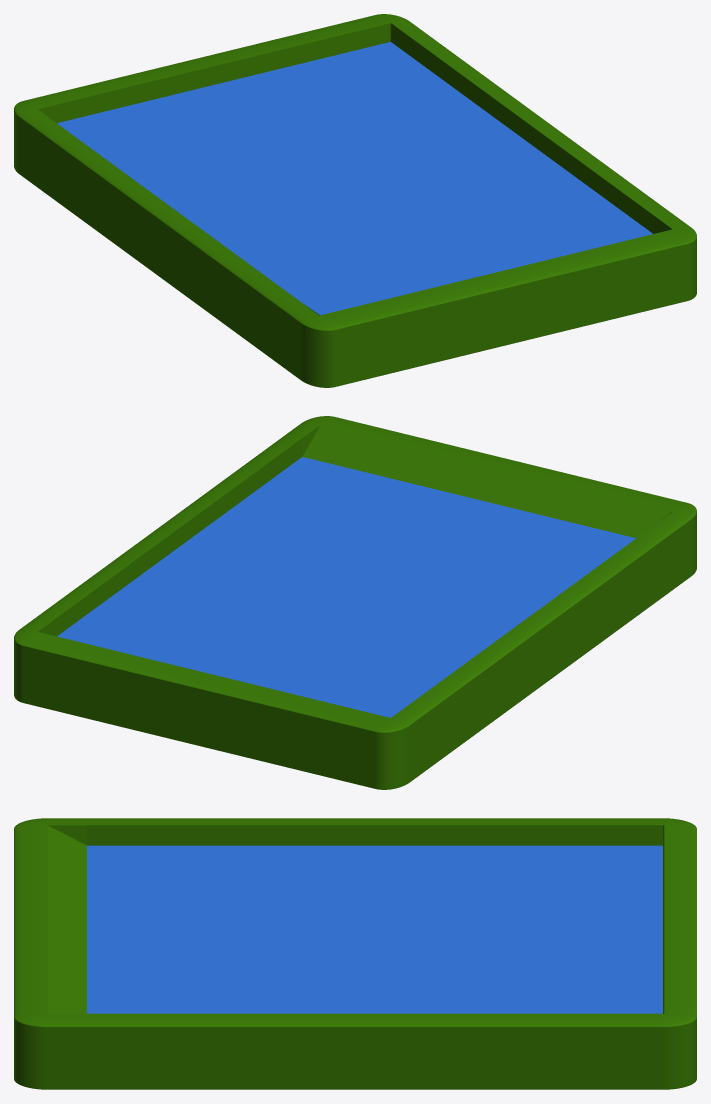
Rendered from TabletteVerte.fbx.
3 renders of one model, top to bottom at view 1: azimuth 30°, elevation 25°; view 2: azimuth 150°, elevation 25°; view 3: azimuth 270°, elevation 25°, orthographic. The views are drawn at different scales.
Parts seen in each view (by area): view 1: Cube; view 2: Cube; view 3: Cube.
Boxes of the visible parts, x1,y1,x2,y2 form: Cube: (14, 14, 696, 387); Cube: (14, 416, 696, 789); Cube: (14, 818, 696, 1089).
Bounding box in the file's own units: 130 × 20 × 180.
